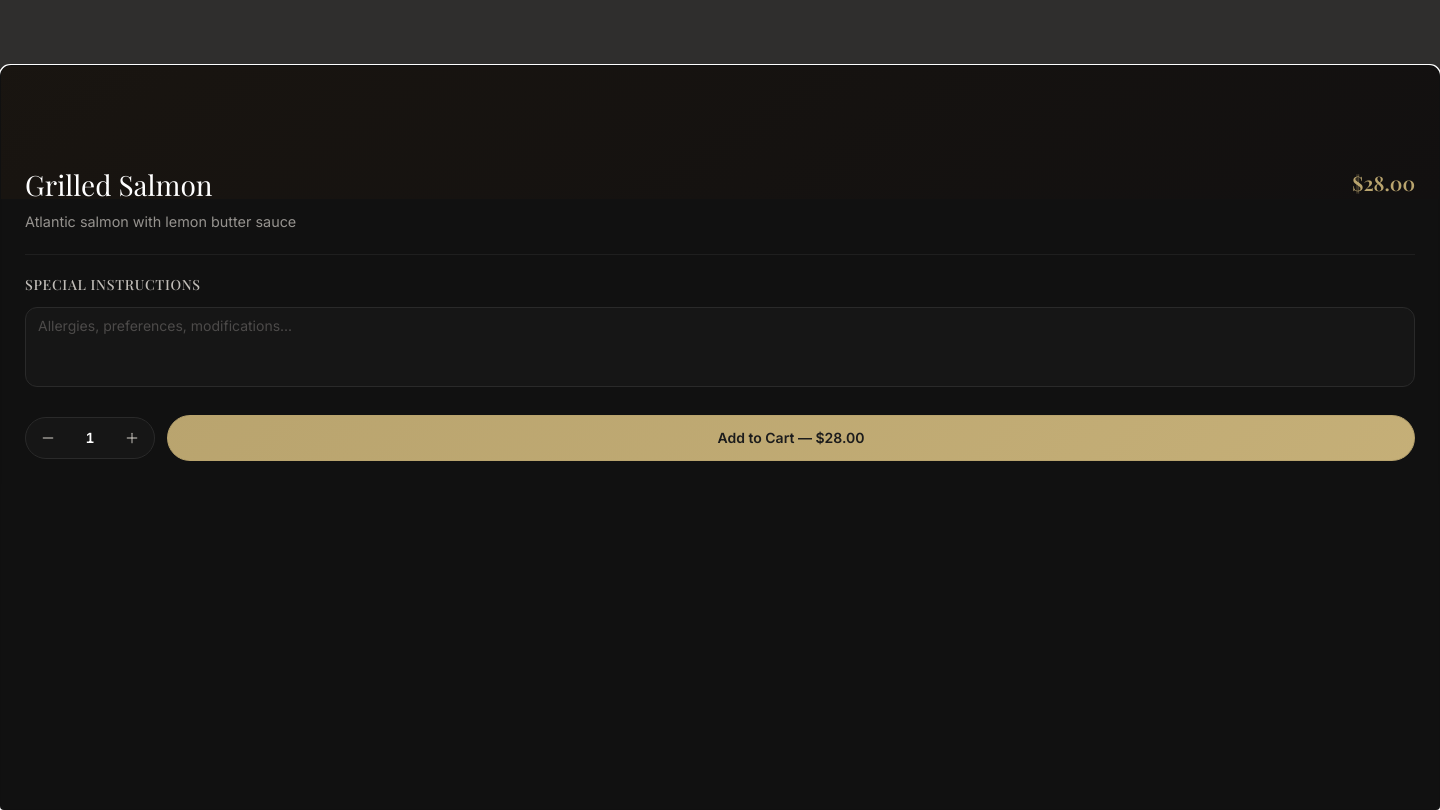
Test: ItemModal › increments and decrements quantity
(page scrolled)
Expected: the text "1" is shown, [86,428,95,446]
Click the button named "Increase quantity".
click(132, 438)  # box [110,420,154,456]
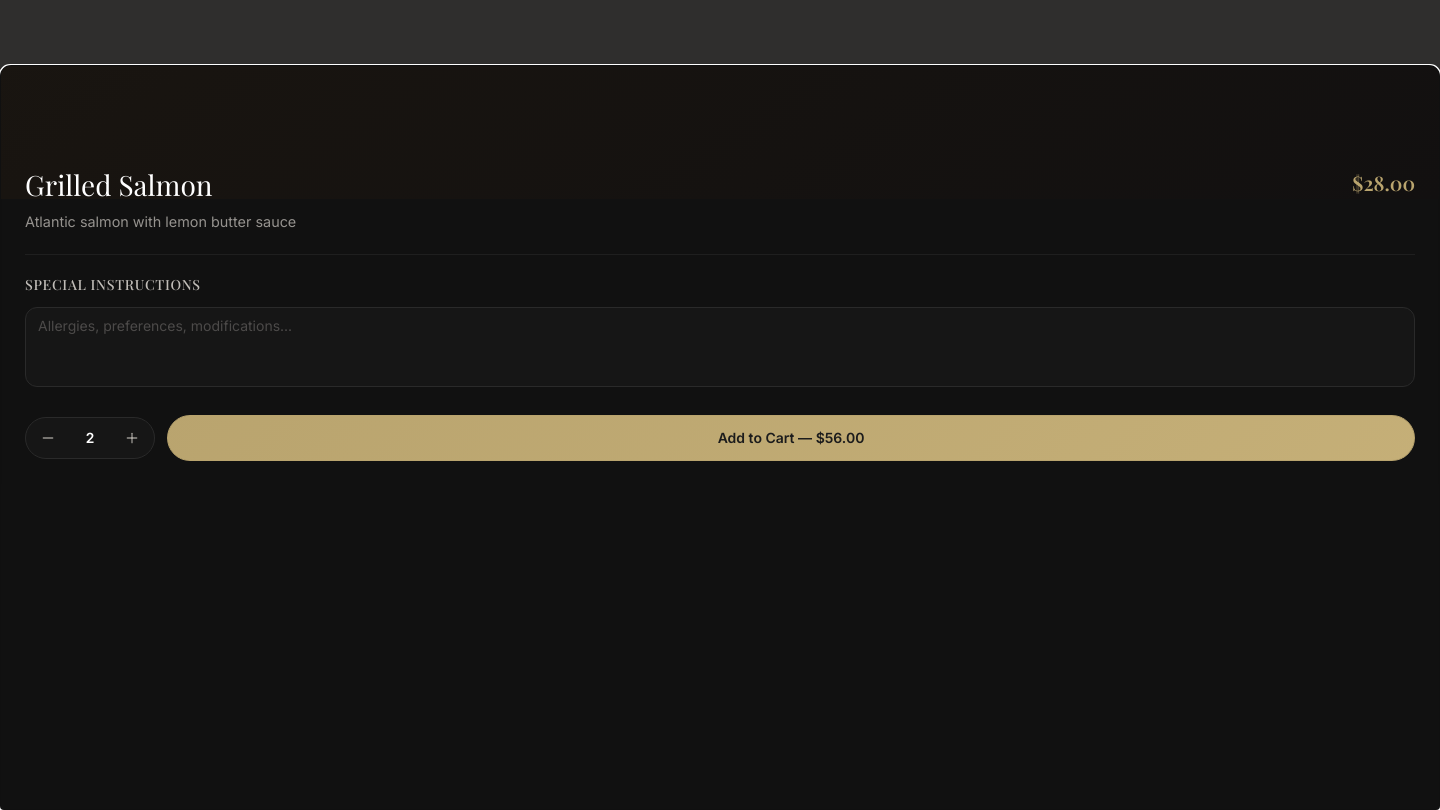
Expected: the text "2" is shown, [86,428,95,446]
Click the button named "Decrease quantity".
click(48, 438)  # box [26,420,70,456]
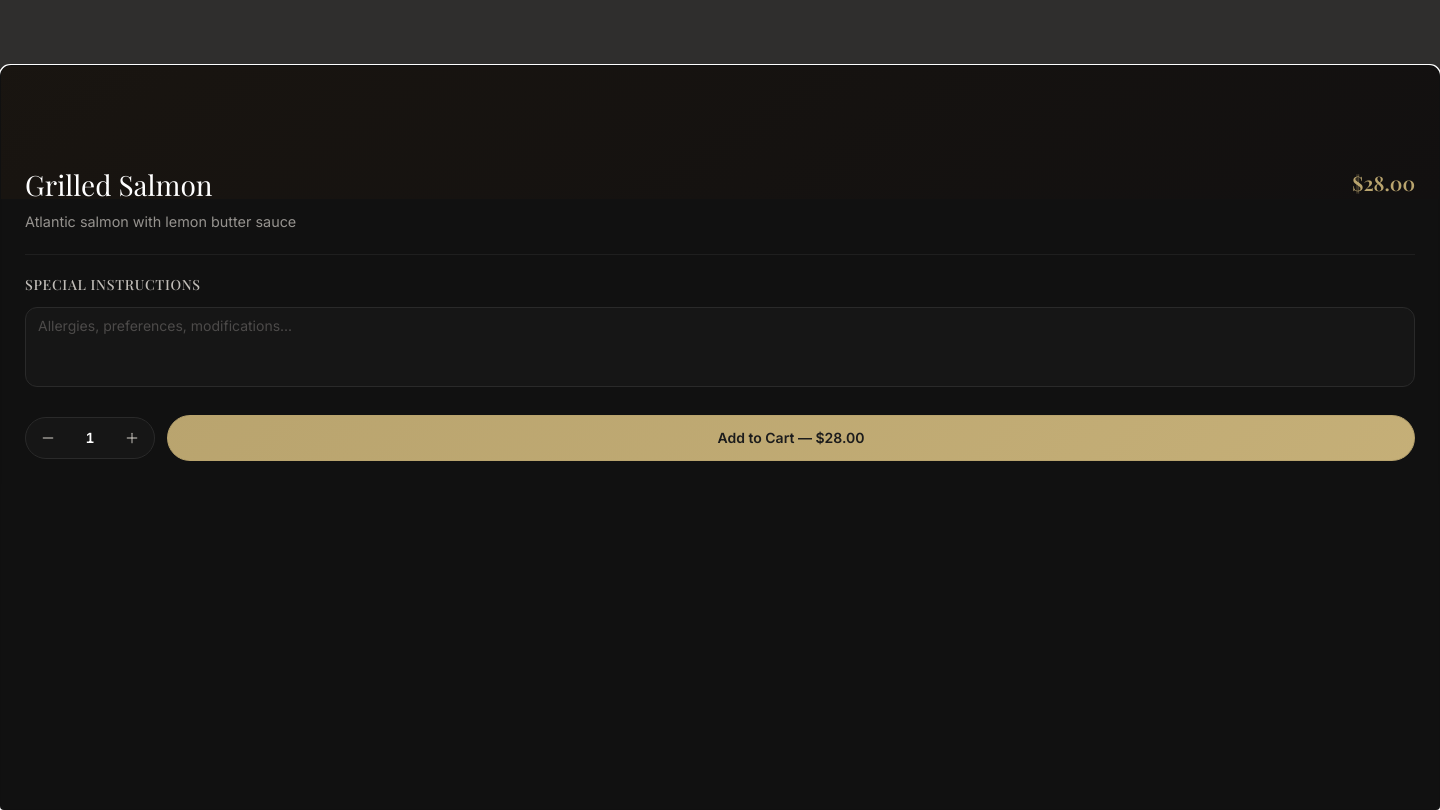
Expected: the text "1" is shown, [86,428,95,446]
